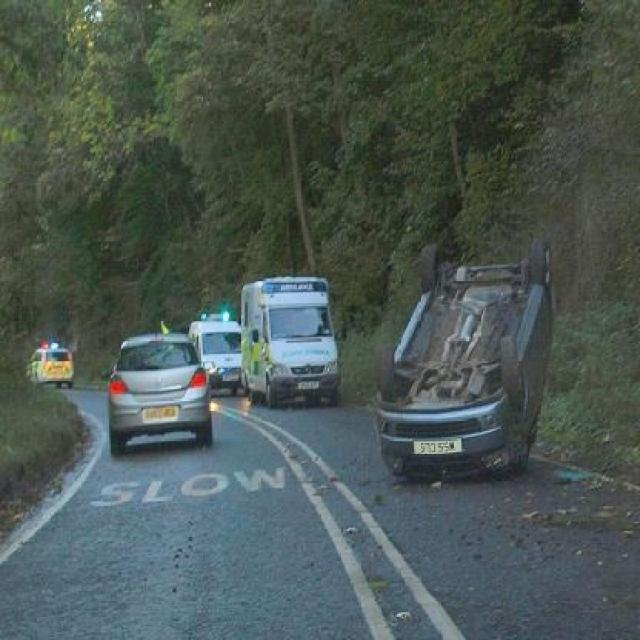Car: (356, 229, 587, 515), (92, 335, 218, 461)
Van: (237, 249, 345, 416)
